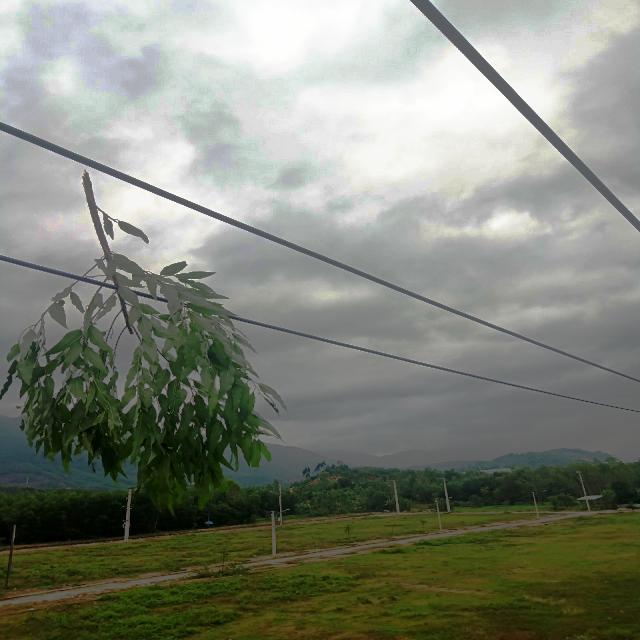obstruction: (0, 171, 299, 512)
wires: (10, 111, 639, 384), (241, 314, 637, 418)
